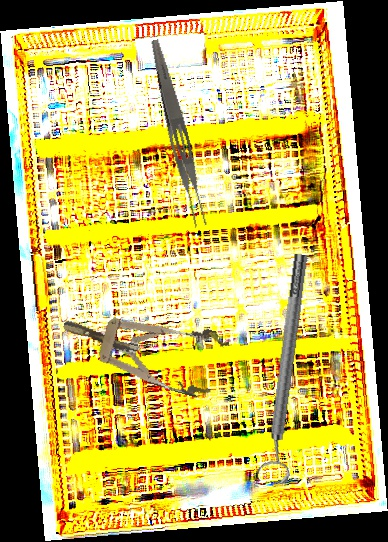Dressing Forceps: (142, 38, 212, 229)
Fixation Ring: (252, 252, 322, 485)
Speculum: (54, 290, 232, 403)
